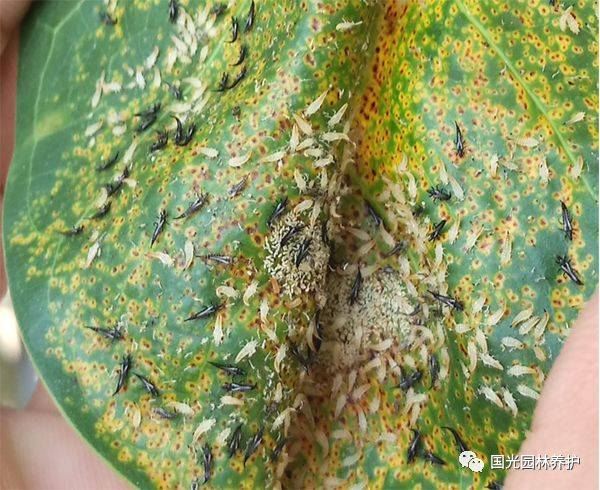Phlaeothripidae: (440, 422, 477, 464), (553, 252, 587, 290), (427, 289, 468, 318), (173, 190, 209, 220), (182, 302, 222, 327), (130, 368, 160, 401), (194, 249, 236, 272), (220, 171, 247, 206), (112, 351, 131, 400), (244, 429, 265, 473), (150, 206, 169, 250), (425, 180, 455, 207), (377, 239, 403, 270), (425, 216, 449, 248), (346, 262, 363, 307), (92, 146, 120, 173), (211, 359, 248, 379), (278, 222, 299, 257), (228, 61, 249, 96), (85, 325, 125, 343), (219, 379, 259, 397), (556, 197, 571, 245), (128, 98, 162, 119), (107, 170, 130, 201), (365, 199, 383, 235), (232, 39, 252, 71), (200, 440, 214, 485), (85, 201, 115, 222), (167, 113, 185, 148), (53, 223, 86, 242), (429, 348, 441, 400), (211, 64, 231, 94), (295, 234, 310, 273), (267, 196, 283, 232), (227, 420, 241, 461), (405, 428, 419, 467), (421, 448, 448, 468), (241, 1, 256, 36), (181, 123, 199, 148), (453, 116, 463, 160), (154, 407, 180, 423), (225, 16, 241, 40), (149, 133, 167, 151), (167, 1, 178, 27)
